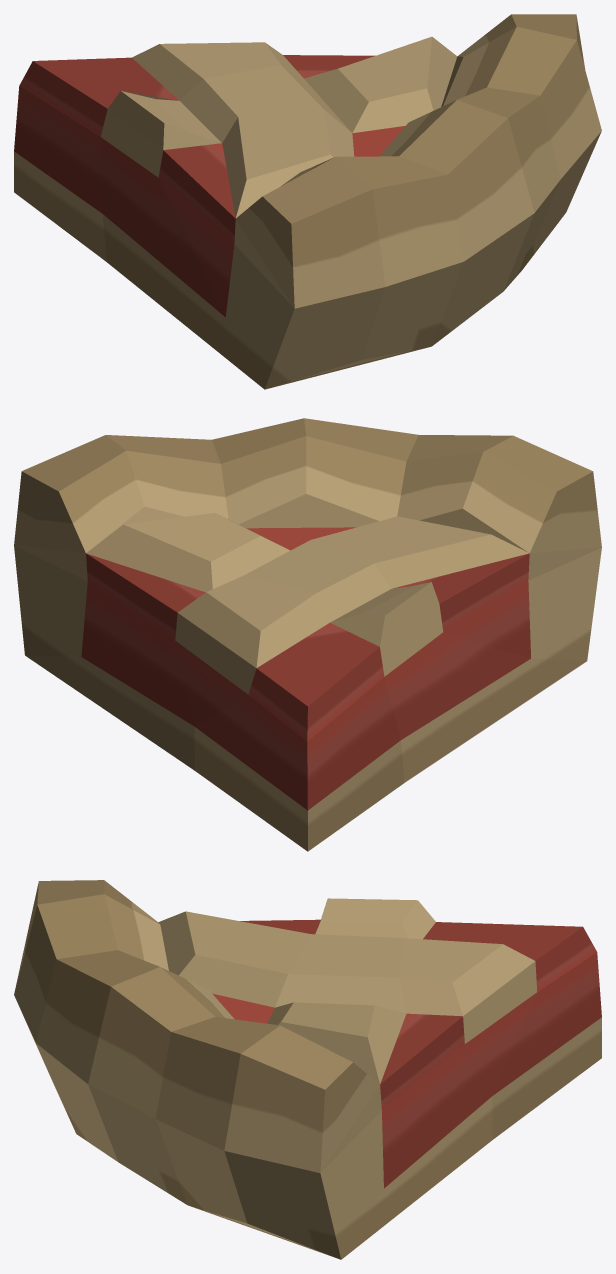
Rendered from SM_Prop_Pie_Slice_01.fbx.
3 views of the same model, one above another, from view 1: azimuth 30°, elevation 25°; view 2: azimuth 150°, elevation 25°; view 3: azimuth 270°, elevation 25° (orthographic).
Parts seen in each view (by area): view 1: SM_Prop_Pie_Slice_01; view 2: SM_Prop_Pie_Slice_01; view 3: SM_Prop_Pie_Slice_01.
Boxes of the visible parts, x1,y1,x2,y2 form: SM_Prop_Pie_Slice_01: (14,14,601,389); SM_Prop_Pie_Slice_01: (14,418,601,851); SM_Prop_Pie_Slice_01: (14,880,601,1259).
Size of the model in its own units: 22.14 by 9.42 by 25.12.
